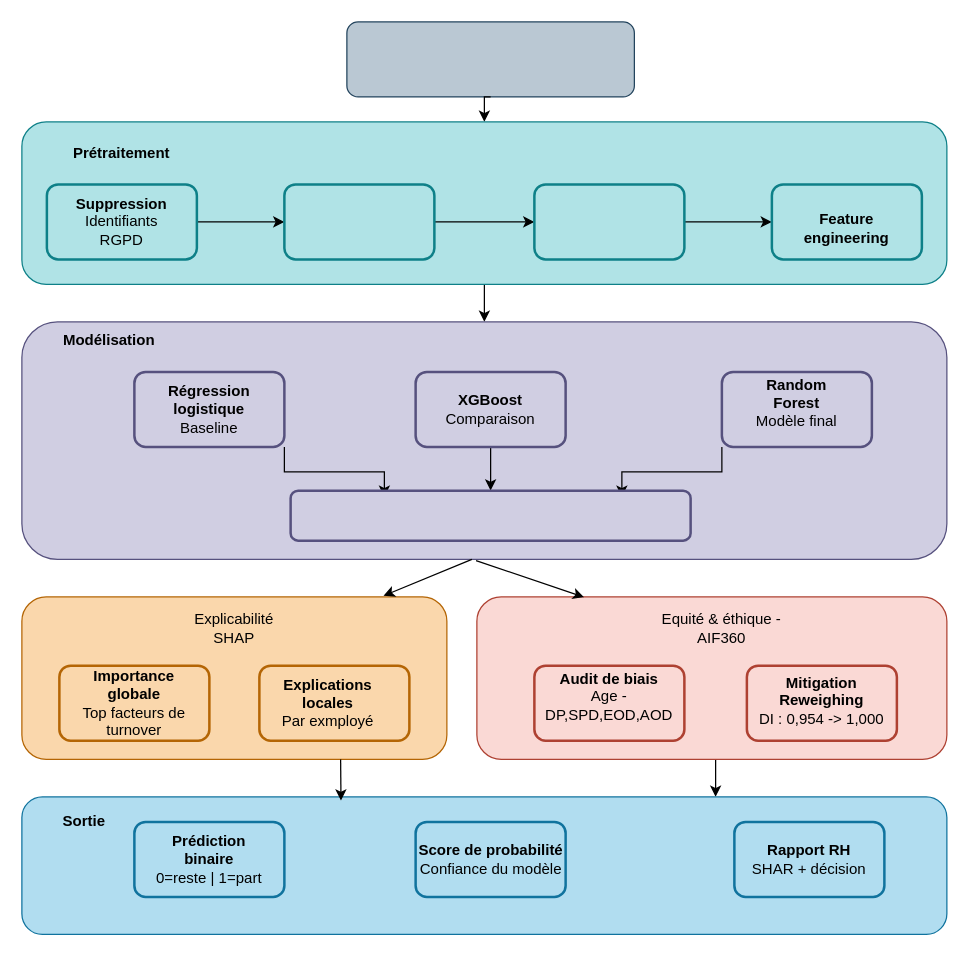
The diagram is 969 pixels wide and 956 high, and some of its shapes have lost their labels. The box of each missing label's shape, as (x1, y1, x2, y2) in pixels:
Attributs sensibles retirés: (282, 182, 435, 260)
Couche de données Données brutes - Kaggle HR (311 lignes): (346, 21, 634, 97)
Evaluation Accuracy - F1 - Recall - ROC-AUC: (289, 489, 691, 541)
Fuites de données supprimées: (532, 182, 685, 260)
